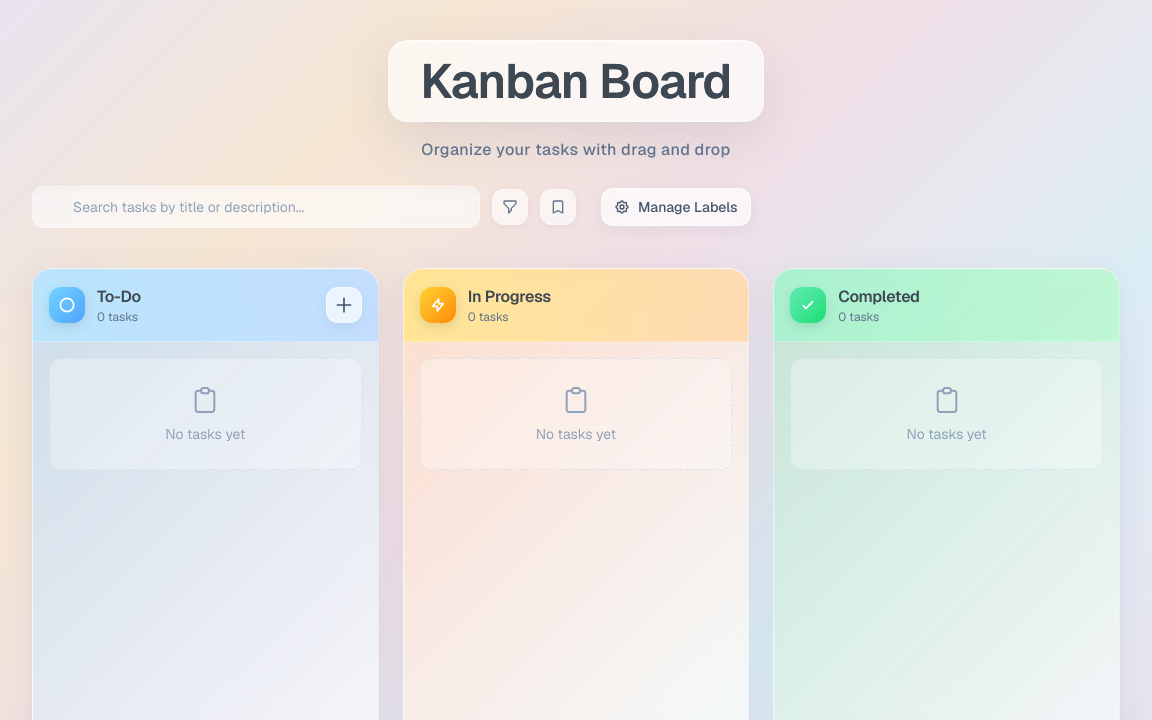
Test: Kanban Board Integration Tests › Create Task Workflow › should handle optimistic update with rollback on error
Click the button named "add new task".
click(344, 305)  # box [326, 287, 362, 323]
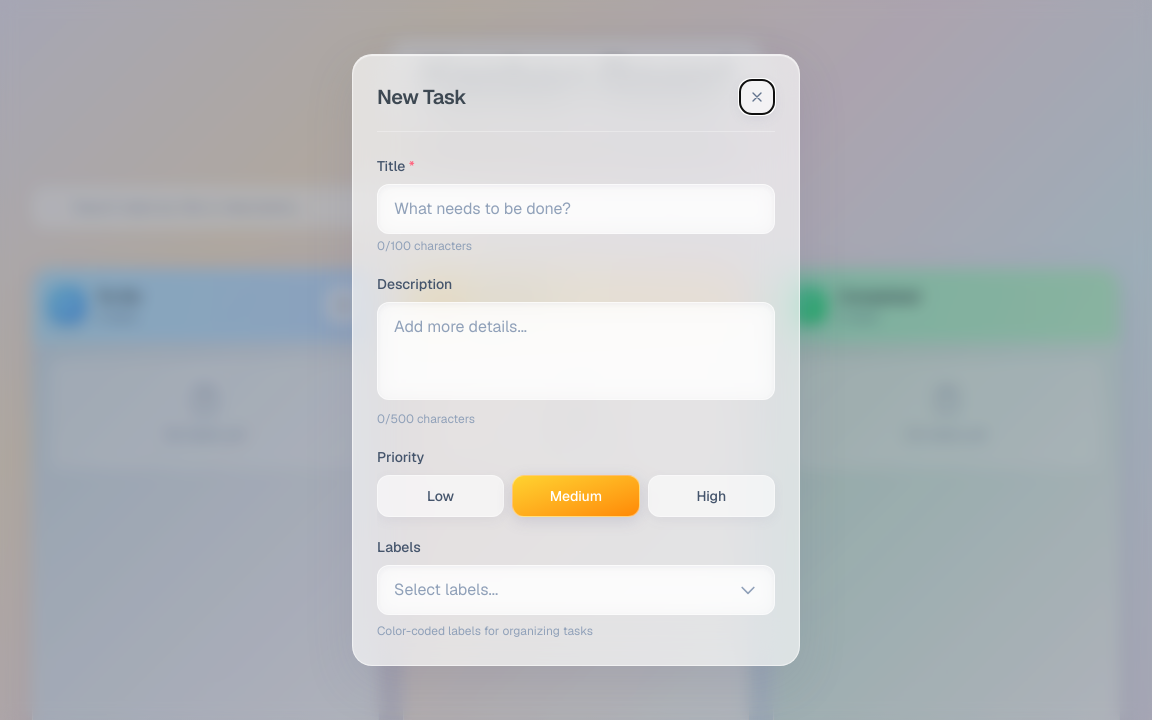
Result: the dialog is shown at [352, 54, 800, 666]
Type "Test Task" into the field labelled "Title *".
click(576, 209); type("Test Task")  # box [377, 184, 775, 234]
(page scrolled)
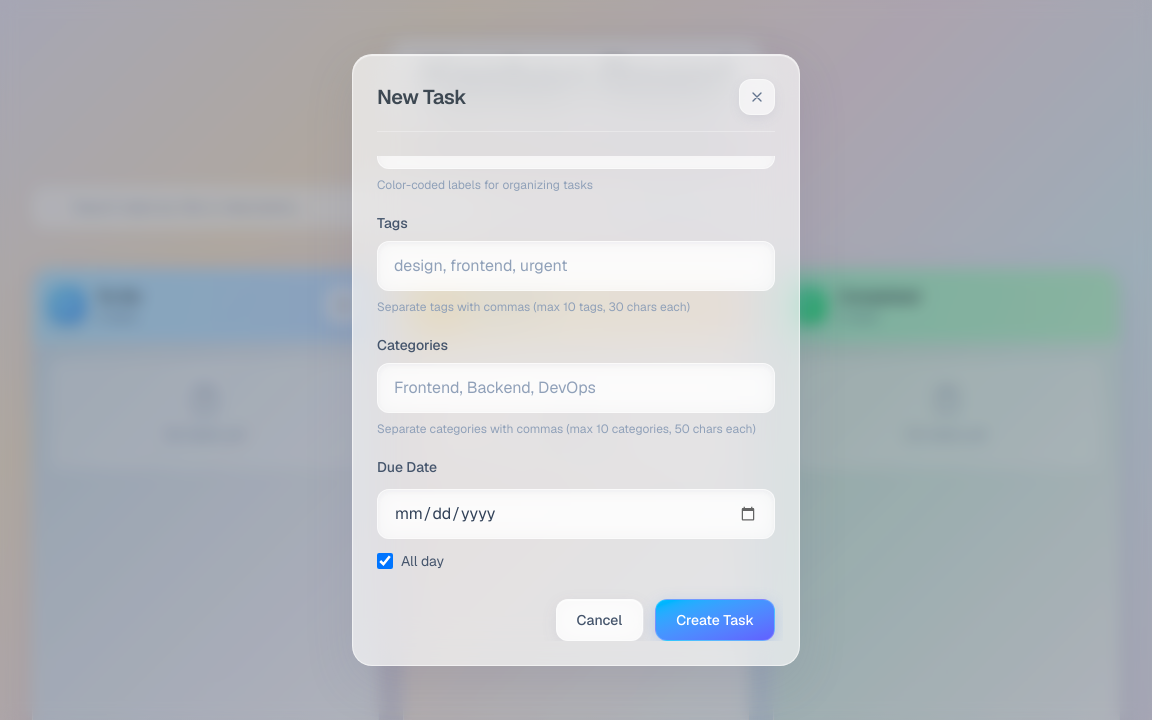
Click the button "Create Task".
click(715, 620)  # box [655, 599, 775, 641]
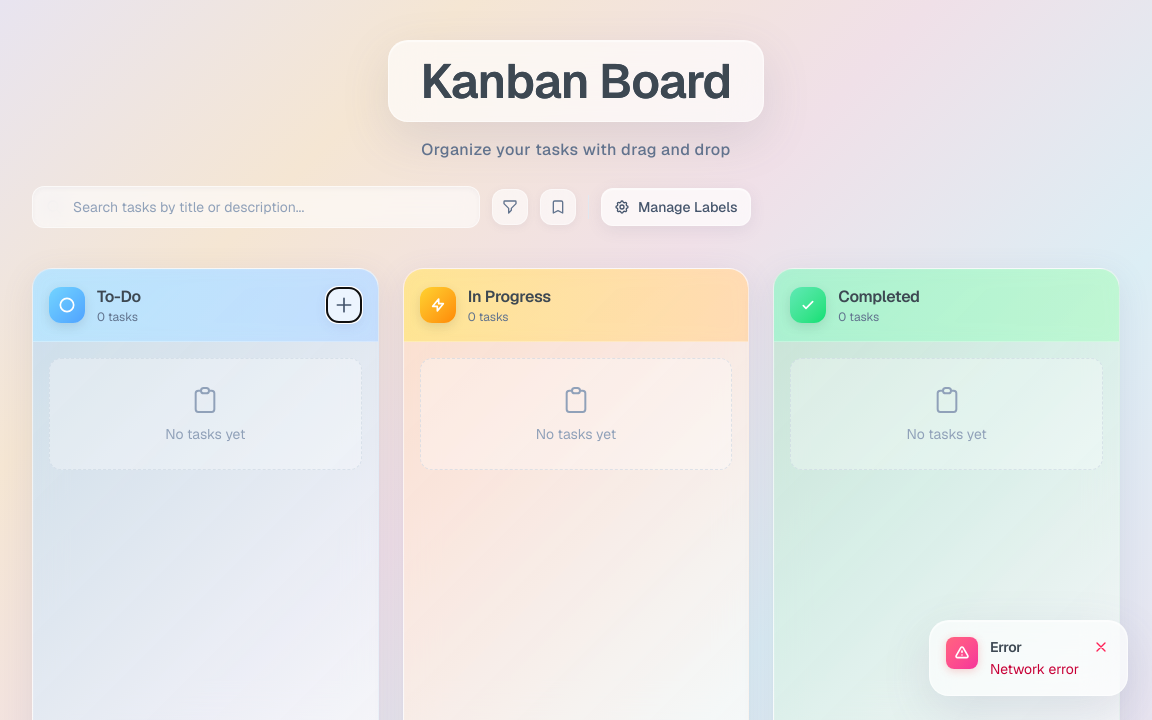
Result: the dialog is gone
